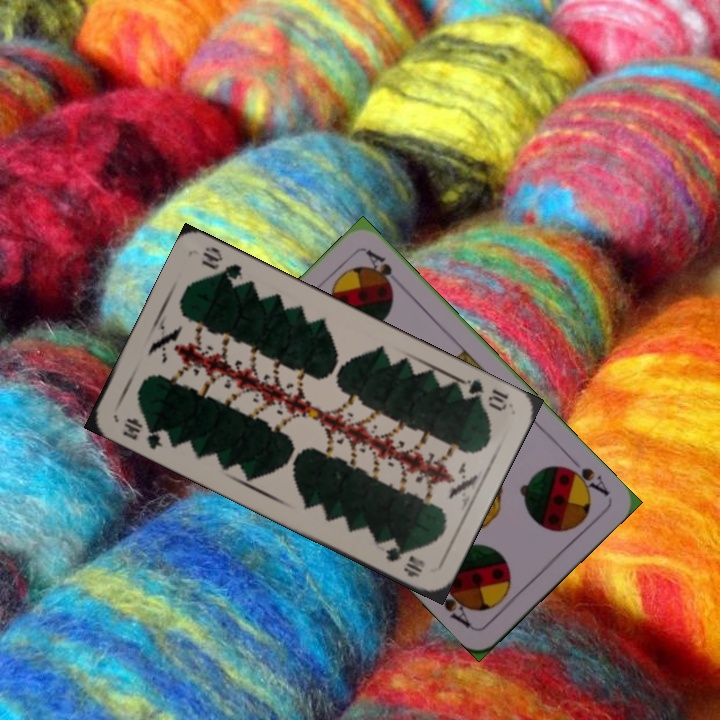G10: (455, 375, 512, 414), (118, 413, 166, 453)
SA: (559, 453, 613, 499)
